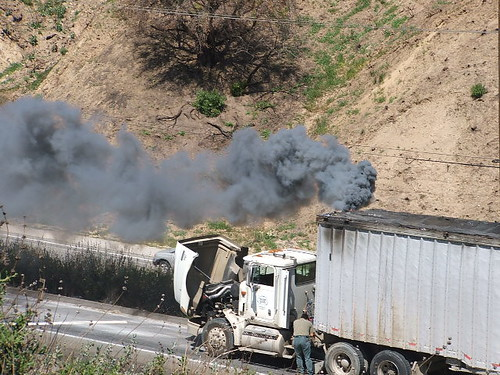smoke: (1, 104, 383, 232)
tree: (142, 1, 291, 100)
truck: (167, 195, 500, 375)
